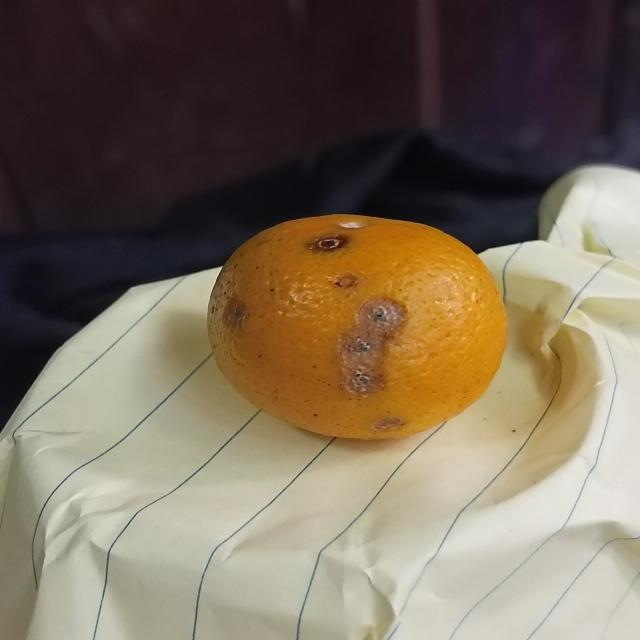black spot: (207, 213, 515, 444)
